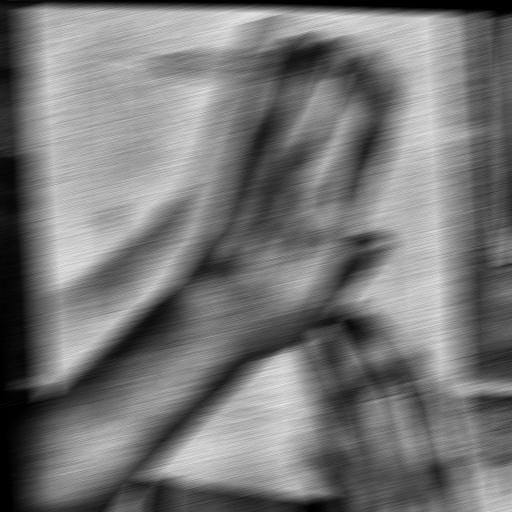bottom_left: (46, 447, 62, 458)
envelop: (95, 33, 405, 455)
